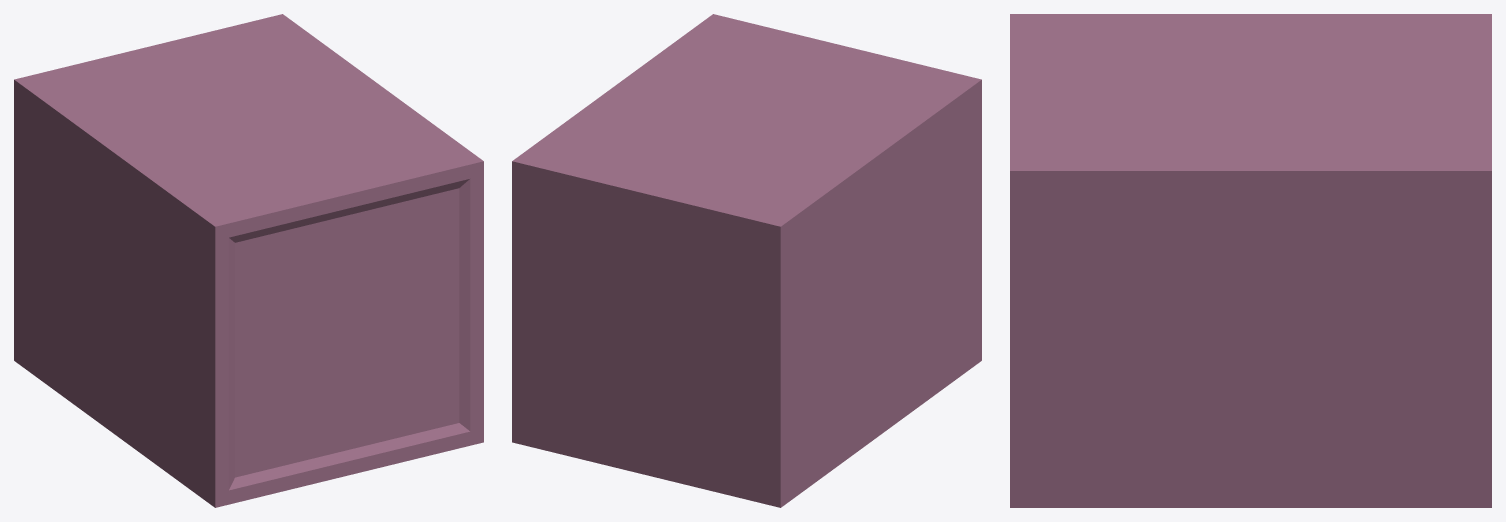
File: paper.glb
3 renders of one model, left to right at view 1: azimuth 30°, elevation 25°; view 2: azimuth 150°, elevation 25°; view 3: azimuth 270°, elevation 25°, orthographic. The views are drawn at different scales.
Parts seen in each view (by area): view 1: 종이; view 2: 종이; view 3: 종이.
Boxes of the visible parts, <box> form: 종이: <box>14,14,483,507</box>; 종이: <box>512,14,981,507</box>; 종이: <box>1010,14,1491,507</box>.
Size of the model in its own units: 3.6 by 3.6 by 4.67.
